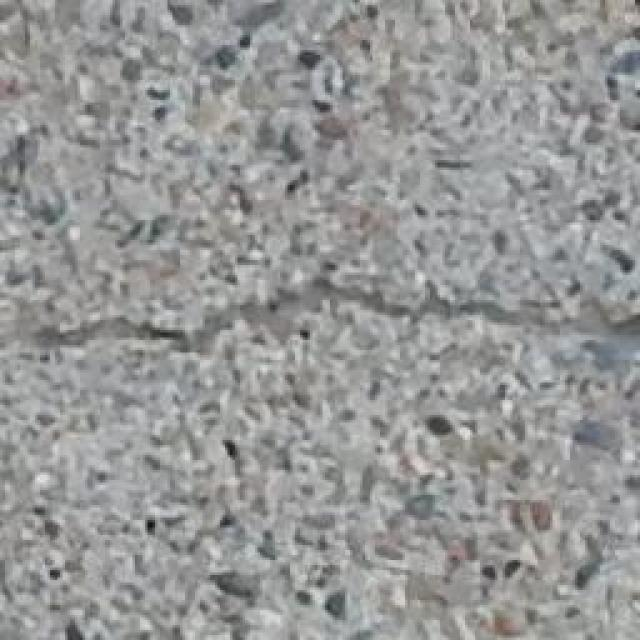concrete-crack: (19, 256, 640, 370)
